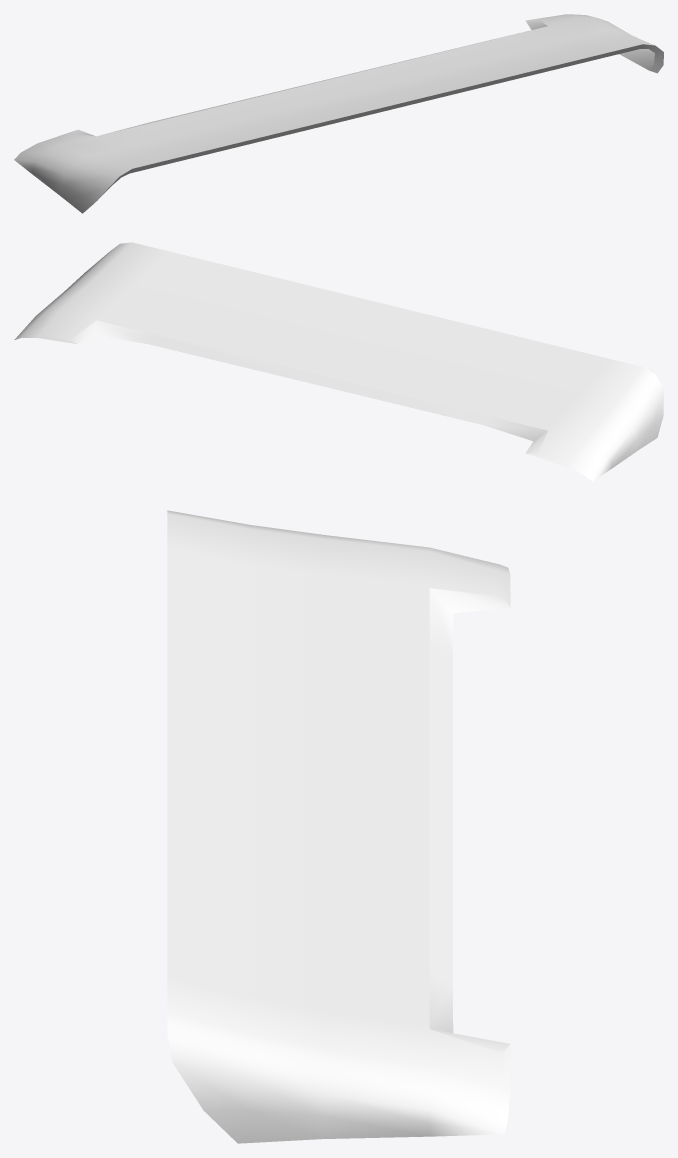
Rendered from spl_c_f_r.glb.
The picture shows the model from 3 angles, top to bottom: view 1: azimuth 30°, elevation 25°; view 2: azimuth 150°, elevation 25°; view 3: azimuth 270°, elevation 25°; orthographic projection. The views are drawn at different scales.
Parts seen in each view (by area): view 1: spl_c_f_r; view 2: spl_c_f_r; view 3: spl_c_f_r.
Part boxes in pixels (x1,y1,x2,y2): spl_c_f_r: (14,14,663,213); spl_c_f_r: (14,242,663,481); spl_c_f_r: (167,510,510,1143).
Bounding box in the file's own units: 1.43 × 0.118 × 0.3669.
Materials: 1 (1 with a texture image).
